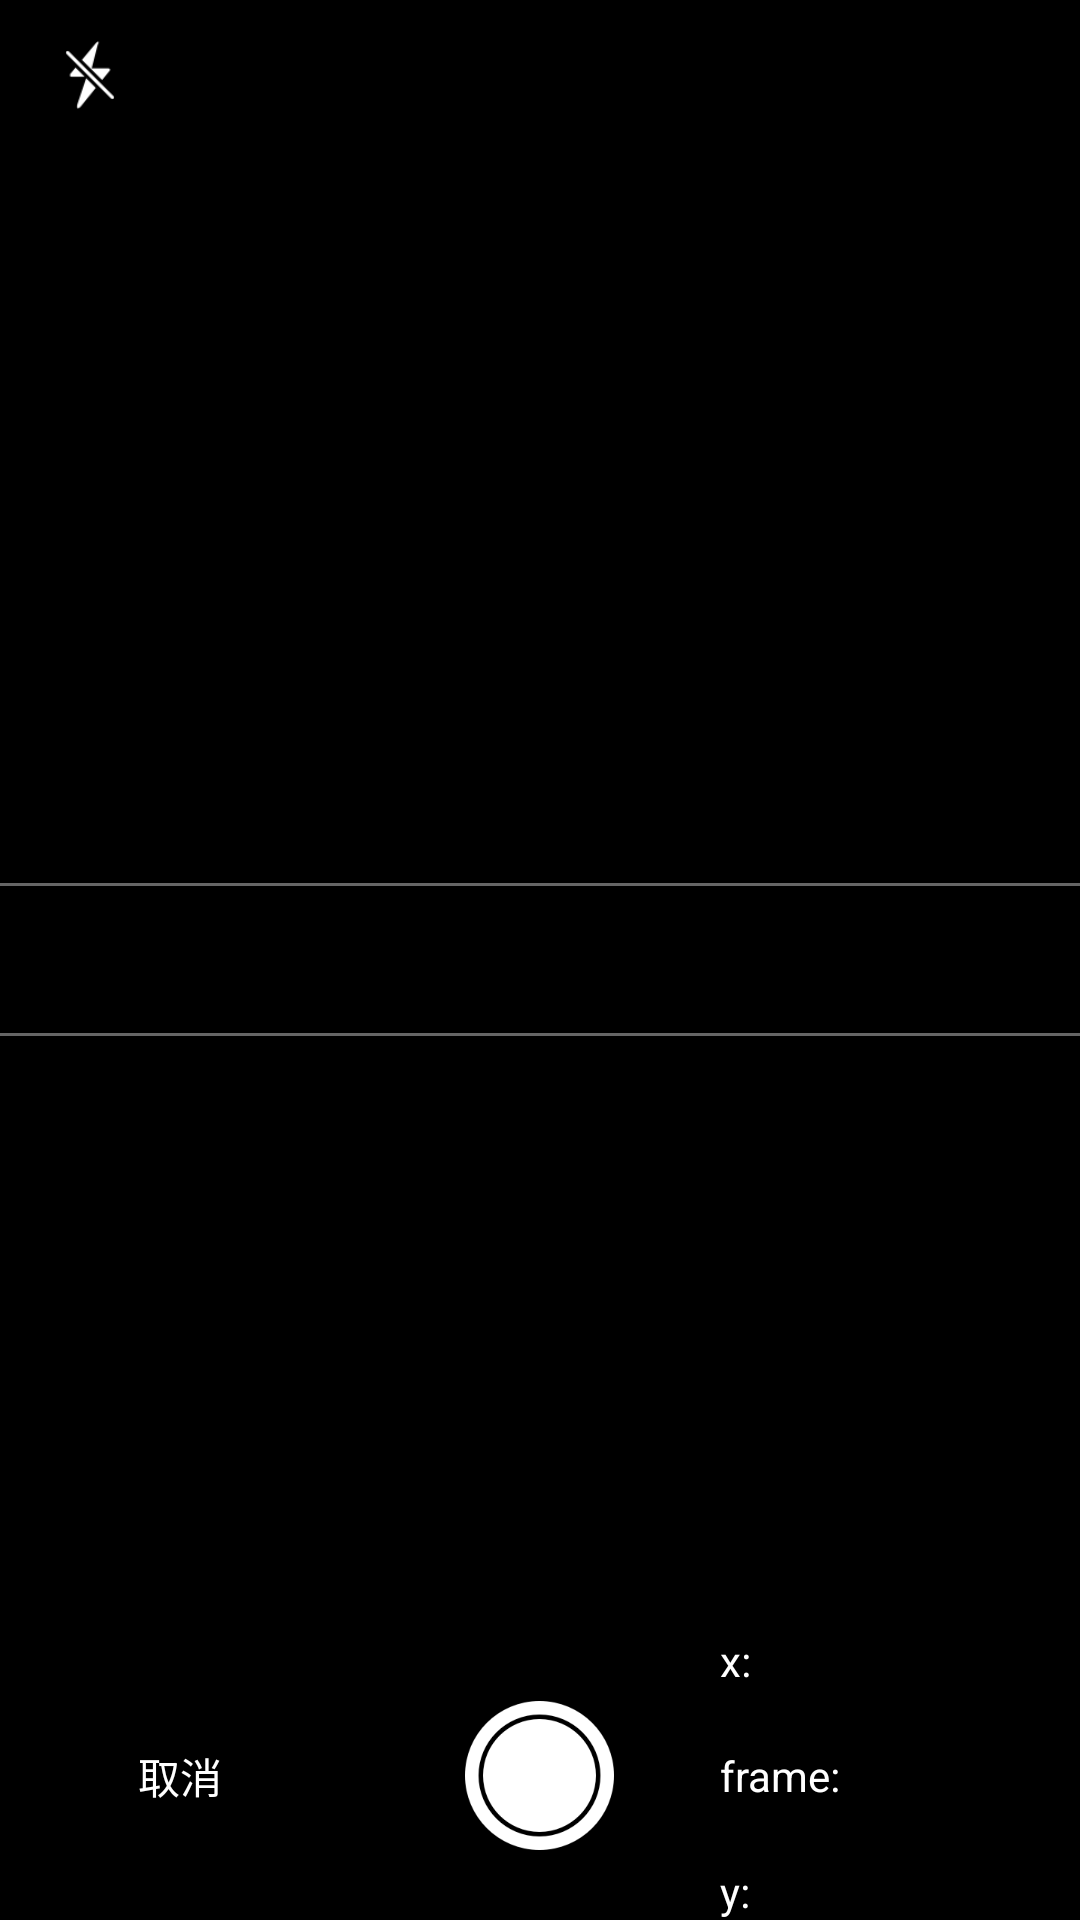

Screen size 1080 × 1920. Icon name, then its box in pixels as (x1, y1, x2, y2):
camera capture: (465, 1701, 614, 1850)
flashlight off: (66, 41, 114, 109)
